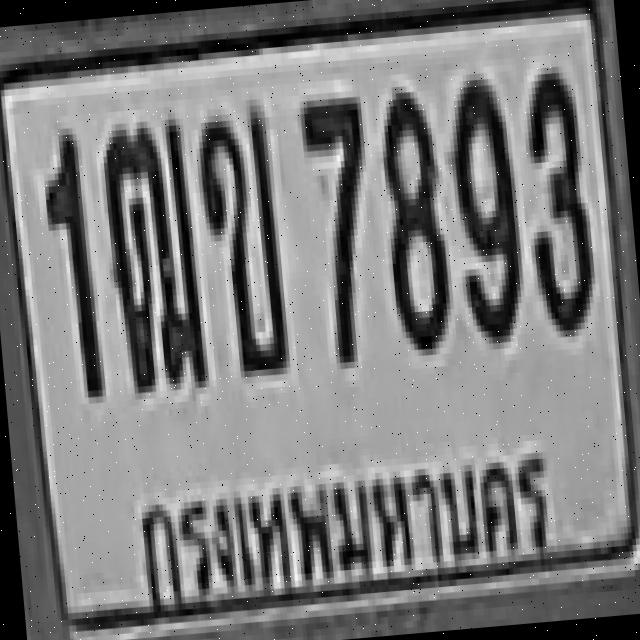1: (38, 127, 100, 399)
11KhorKhai: (192, 99, 286, 374)
27ThorPhuThao: (96, 112, 206, 388)
3: (516, 65, 596, 332)
7: (294, 87, 378, 361)
8: (373, 80, 449, 348)
9: (444, 72, 524, 338)
Bangkok: (120, 436, 566, 620)
